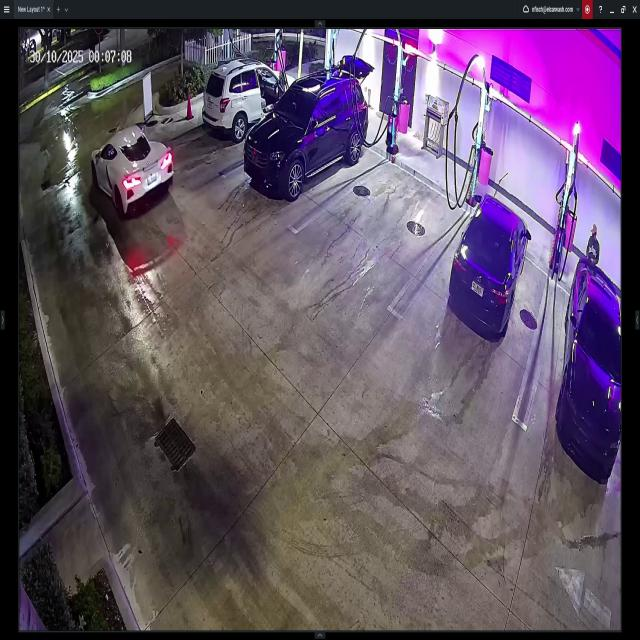Car: (245, 70, 367, 198), (555, 260, 620, 477), (451, 195, 529, 334), (91, 123, 173, 216), (202, 58, 294, 140)
